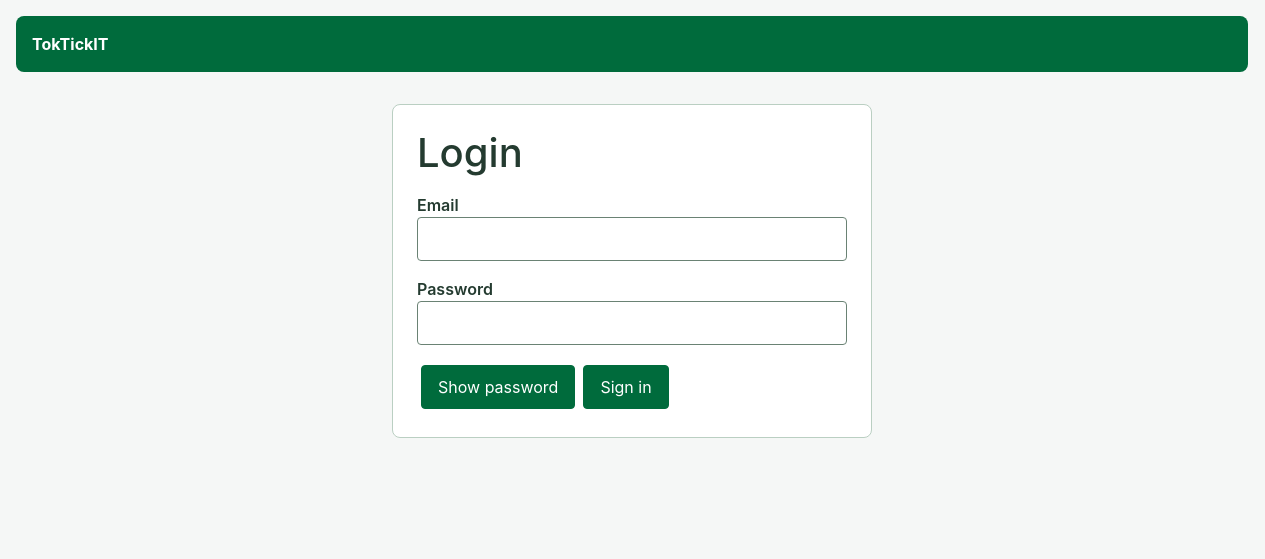
UI-01 displays rate-limit delay and disables submit
This screenshot has width=1265, height=559.
Expected: the button "Sign in" is shown, 583,365 -> 669,409
Type "a@example.test" into the field labelled "Email" at (632, 239), box 417,217 -> 847,261
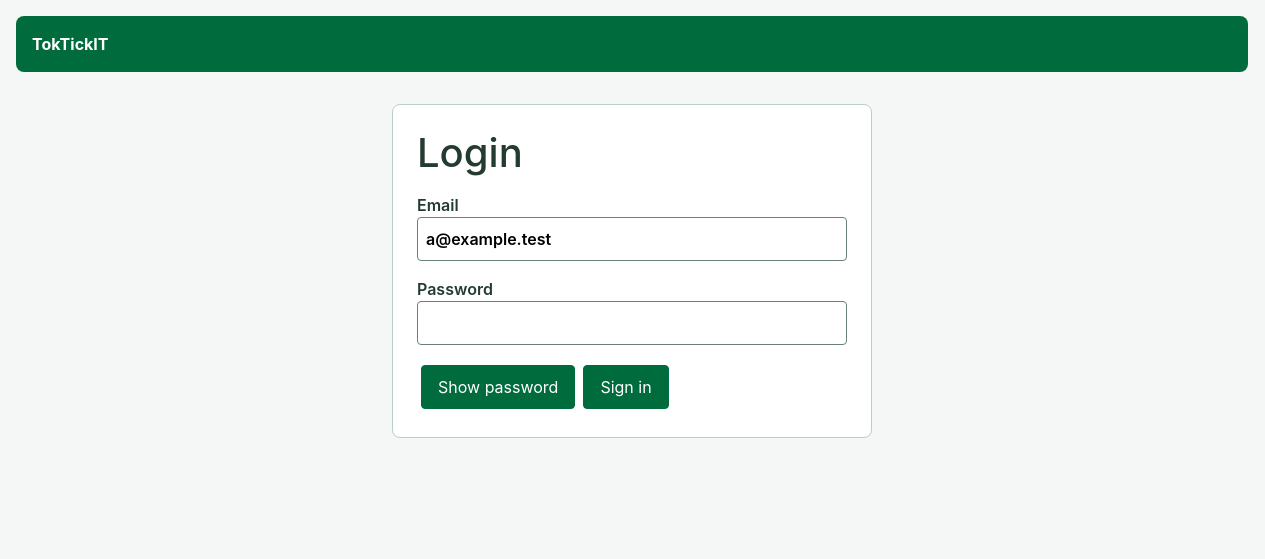
Type "test password" into the password field labelled "Password" at (632, 323), box 417,301 -> 847,345
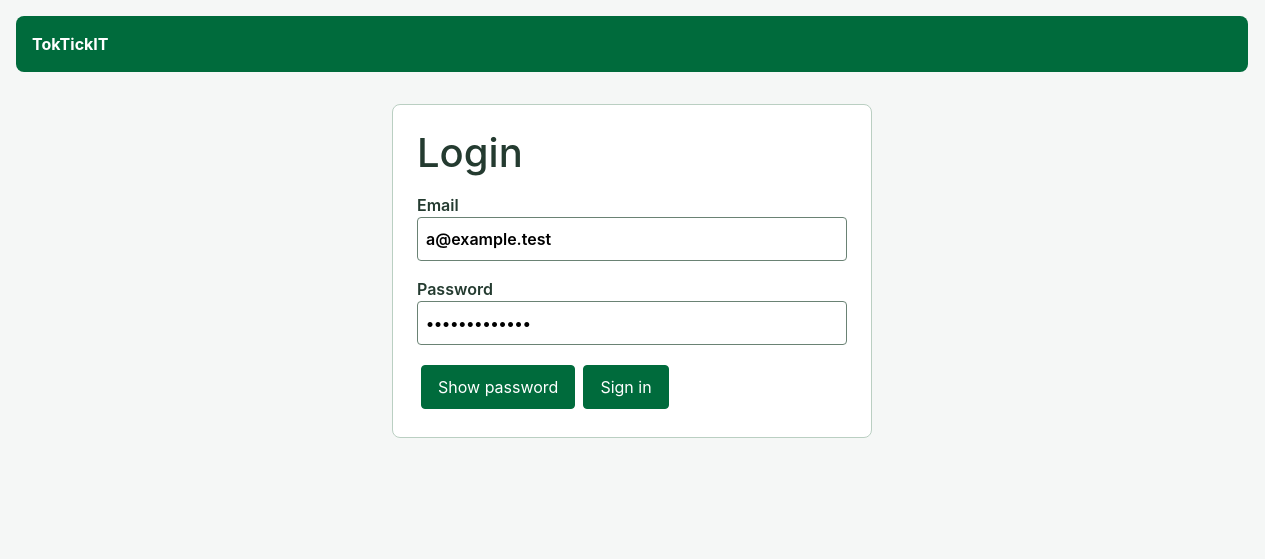
Click the button "Sign in" at (626, 387), box 583,365 -> 669,409
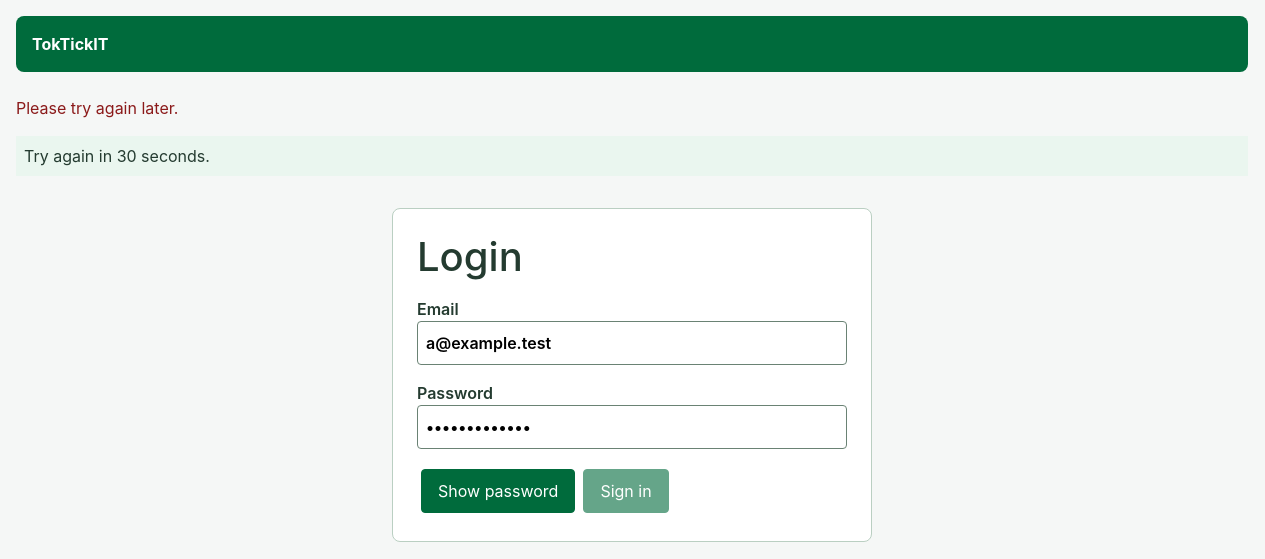
Expected: the text "Try again in 30 seconds." is shown, 16,136 -> 1248,176
Expected: the button "Sign in" is disabled, 583,469 -> 669,513
